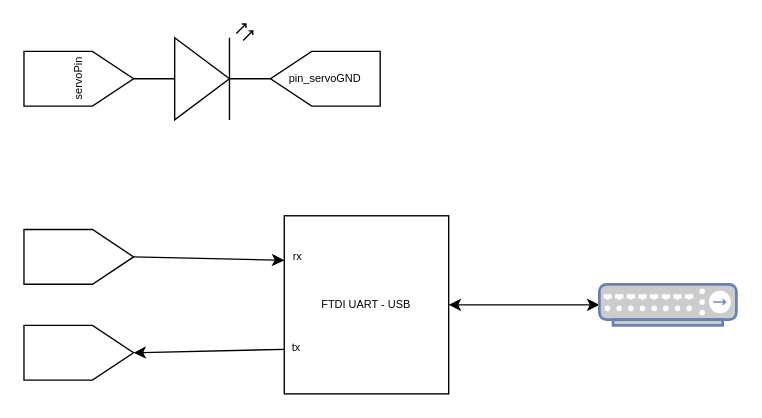
This 762x418 diagram has some shape labels left out. The box of each missing label's shape, as (x1, y1, x2, y2) in pixels:
rxPin: (23, 324, 134, 380)
txPin: (23, 228, 134, 284)
